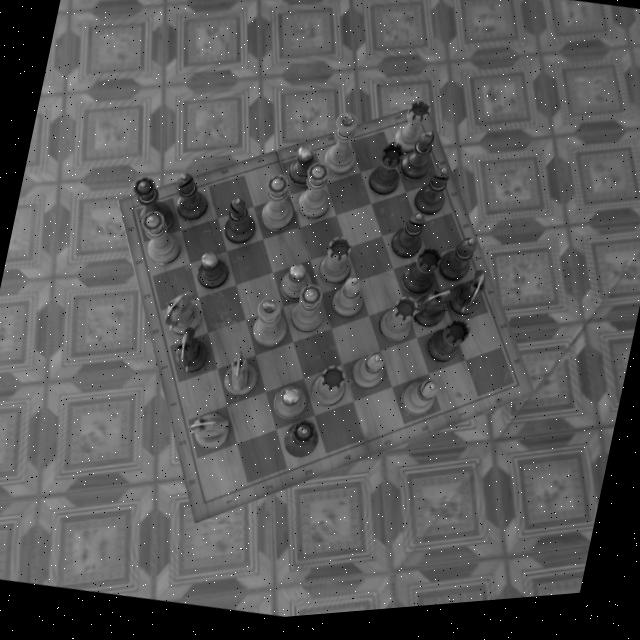chessboard: (134, 126, 517, 506)
